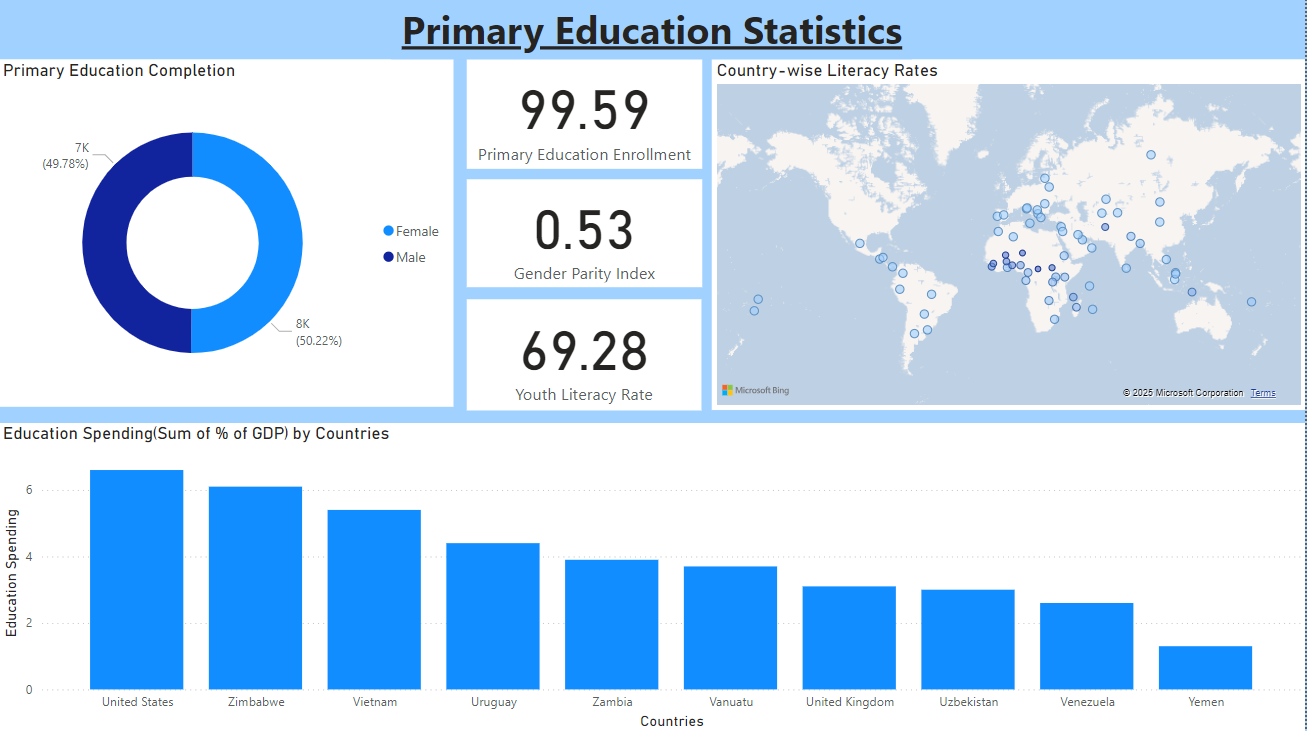

This screenshot's page, from the dashboard's own definition file:
{"tool":"powerbi","page":{"name":"Page 1","canvas":[1280,720],"ordinal":0},"visuals":[{"type":"card","fields":{"Values":["Avg(Final_Data.Youth_Literacy_Rate_Total)"]},"box":[458.6,294.7,229.9,108.8],"z":0},{"type":"card","fields":{"Values":["Avg(Final_Data.Gross_Primary_Education_Enrollment)"]},"box":[458.3,60.4,230.5,107],"z":1000},{"type":"card","fields":{"Values":["Avg(Final_Data.Gender_Parity_Primary)"]},"box":[458.3,177,230.5,105.7],"z":2000},{"type":"map","title":"Country-wise Literacy Rates","fields":{"Category":["Final_Data.Countries and areas"],"Size":["Sum(Final_Data.Youth_Literacy_Rate_Total)"]},"box":[698.5,60.4,581.8,343.1],"z":3000},{"type":"columnChart","title":"Education Spending(Sum of % of GDP) by Countries","fields":{"Y":["Sum(Final_Data.% of GDP)"],"Category":["Final_Data.Countries and areas"]},"box":[0,415.8,1280.3,304.6],"z":5000},{"type":"donutChart","title":"Primary Education Completion","fields":{"Y":["Sum(Final_Data.Completion_Rate_Primary_Female)","Sum(Final_Data.Completion_Rate_Primary_Male)"]},"box":[0,60.4,446,340.3],"z":6000},{"type":"textbox","box":[385.6,0,509.1,60.4],"z":7000}]}

Visuals, with their boxes in screenshot pixels (x1, y1, x2, y2), scaled from the page's 1280x720 canvas onto the 1307x731 screenshot:
card - Avg(Final_Data.Youth_Literacy_Rate_Total): bbox(468, 299, 703, 410)
card - Avg(Final_Data.Gross_Primary_Education_Enrollment): bbox(468, 61, 703, 170)
card - Avg(Final_Data.Gender_Parity_Primary): bbox(468, 180, 703, 287)
"Country-wise Literacy Rates" map: bbox(713, 61, 1306, 410)
"Education Spending(Sum of % of GDP) by Countries" columnChart: bbox(0, 422, 1306, 730)
"Primary Education Completion" donutChart: bbox(0, 61, 455, 407)
textbox: bbox(394, 0, 914, 61)
